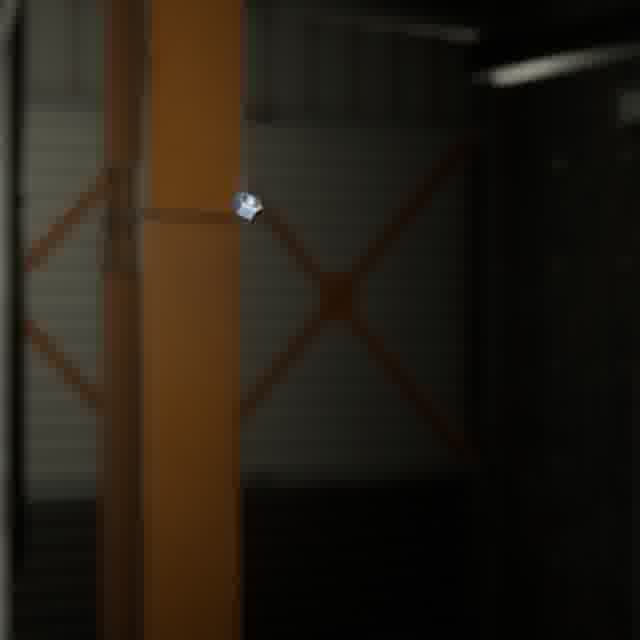nut: (226, 186, 267, 224)
